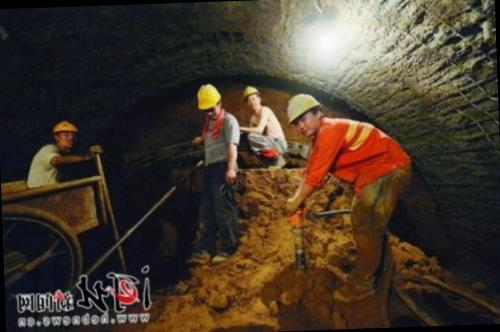person: (260, 90, 419, 300), (181, 81, 246, 266), (16, 120, 104, 190), (237, 80, 286, 172)
